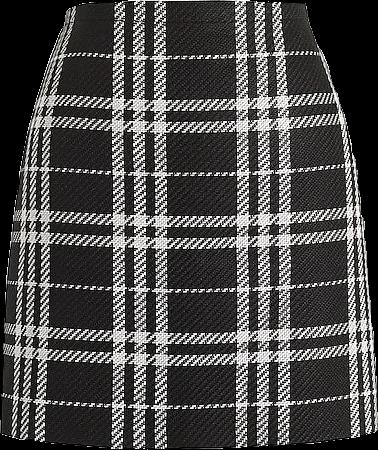Hemline: (0, 428, 377, 449)
Waistline: (60, 15, 308, 29), (63, 0, 306, 13)
